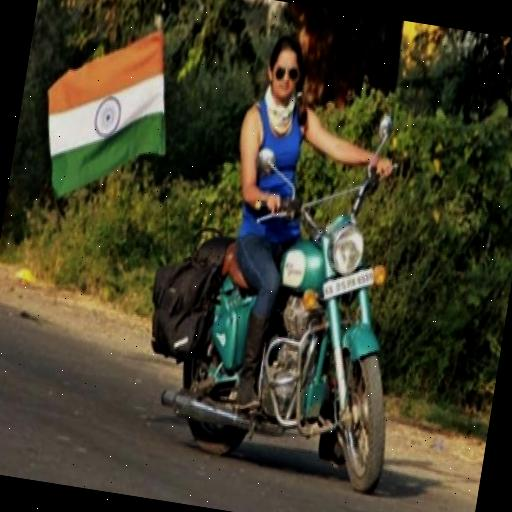no helmet: (180, 10, 454, 491)
